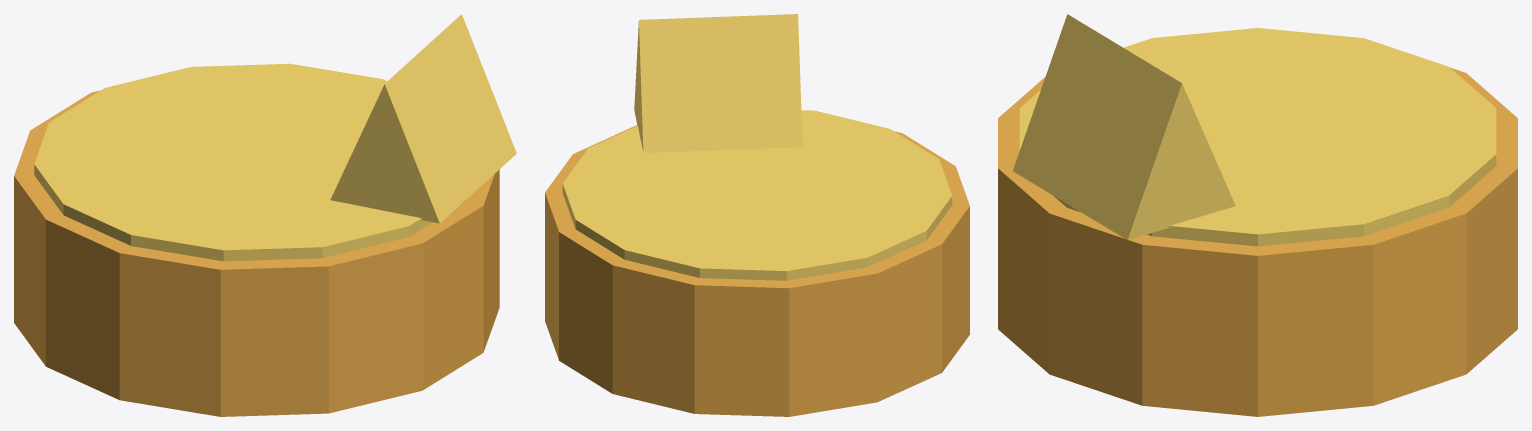
File: cheese_wheel.obj
The picture shows the model from 3 angles, left to right: view 1: azimuth 30°, elevation 25°; view 2: azimuth 150°, elevation 25°; view 3: azimuth 270°, elevation 25°; orthographic projection. The views are drawn at different scales.
Visible parts, largest first — view 1: item; view 2: item; view 3: item.
Boxes of the visible parts, bbox=[...] form: item: bbox=[14, 14, 516, 416]; item: bbox=[545, 14, 969, 416]; item: bbox=[998, 14, 1517, 416].
Size of the model in its own units: 0.48 by 0.31 by 0.468.
